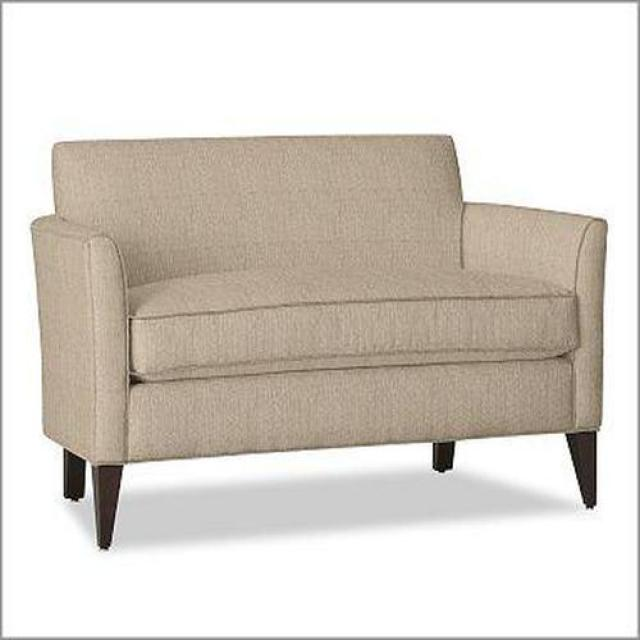sofa: (29, 133, 609, 550)
